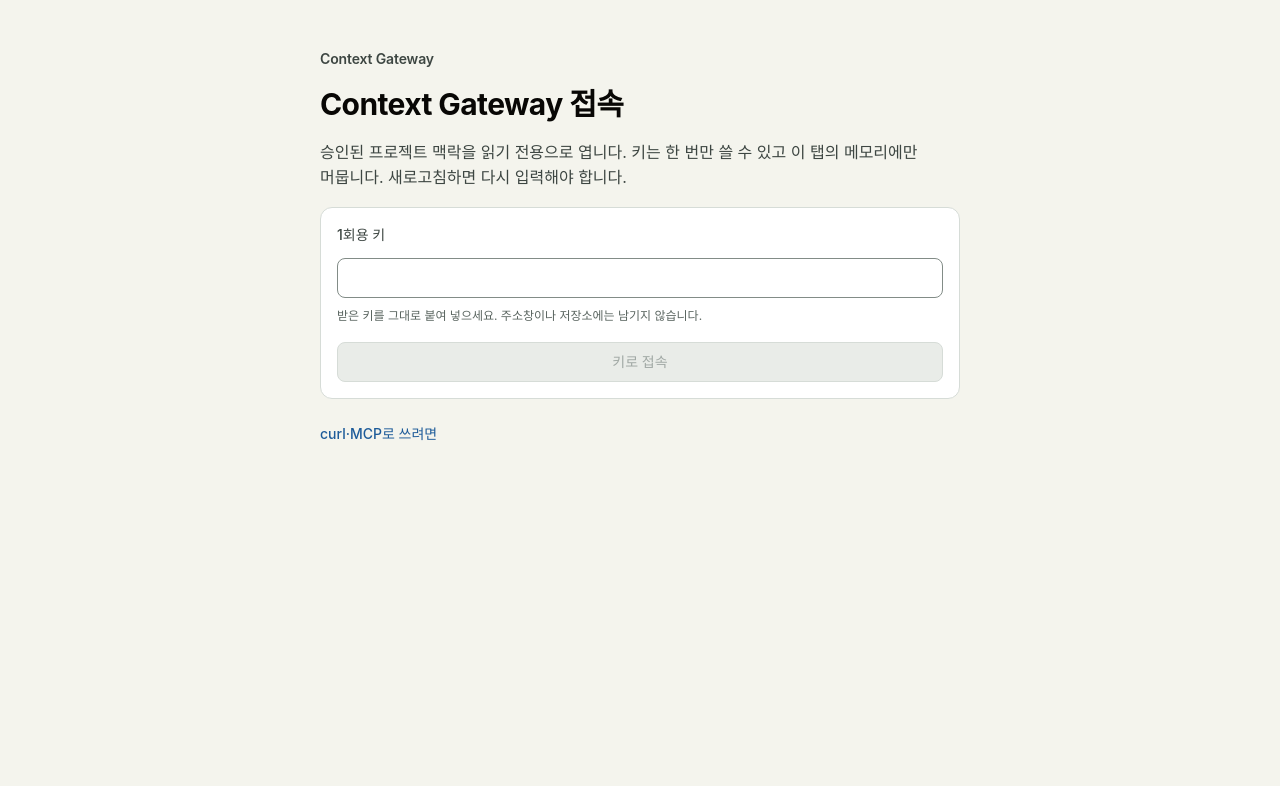
Test: 다른 프로젝트 데이터 비노출 › 프로젝트를 바꾸면 이전 프로젝트의 문서·목록이 화면에서 사라진다
The width and height of the screenshot is (1280, 786).
Type "synthetic-one-time-key-0002" into the password field labelled "1회용 키" at (640, 278), box x1=337 y1=258 x2=943 y2=298
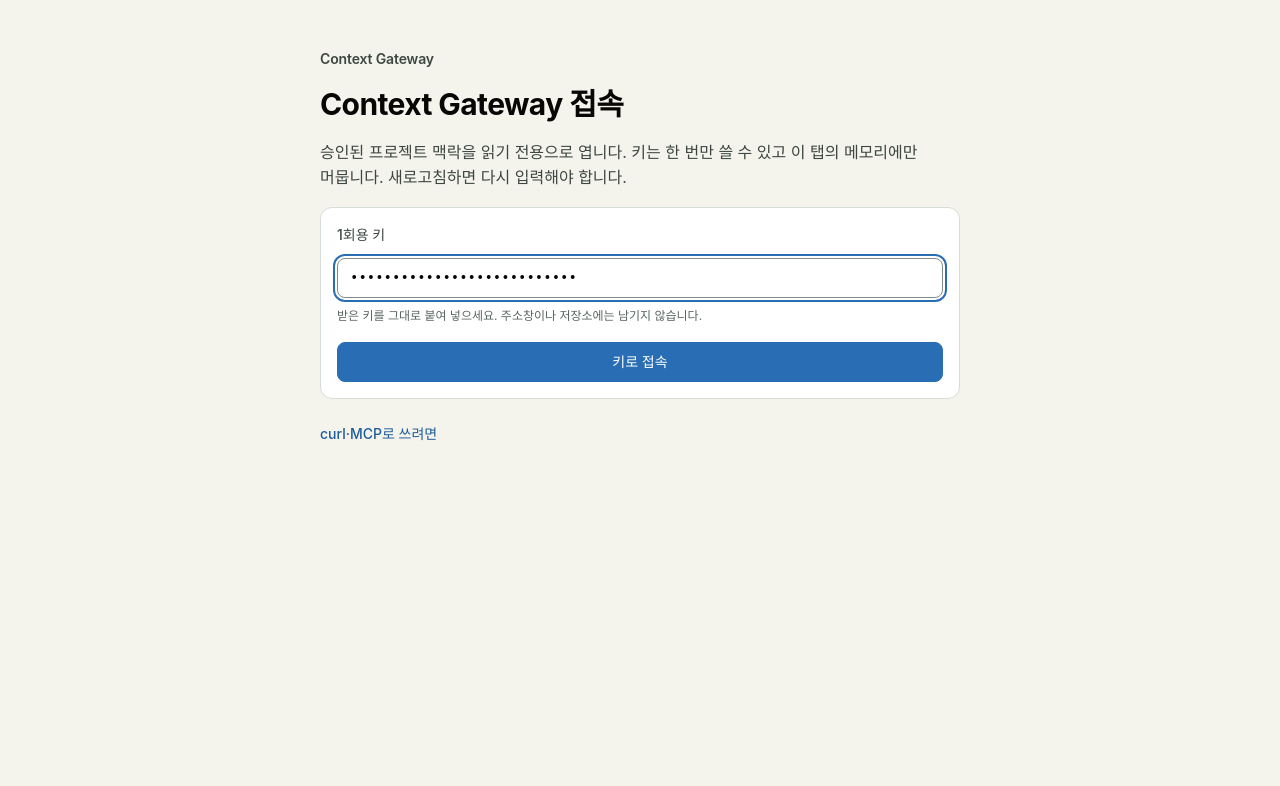
Click the button "키로 접속" at (640, 362), box x1=337 y1=342 x2=943 y2=382
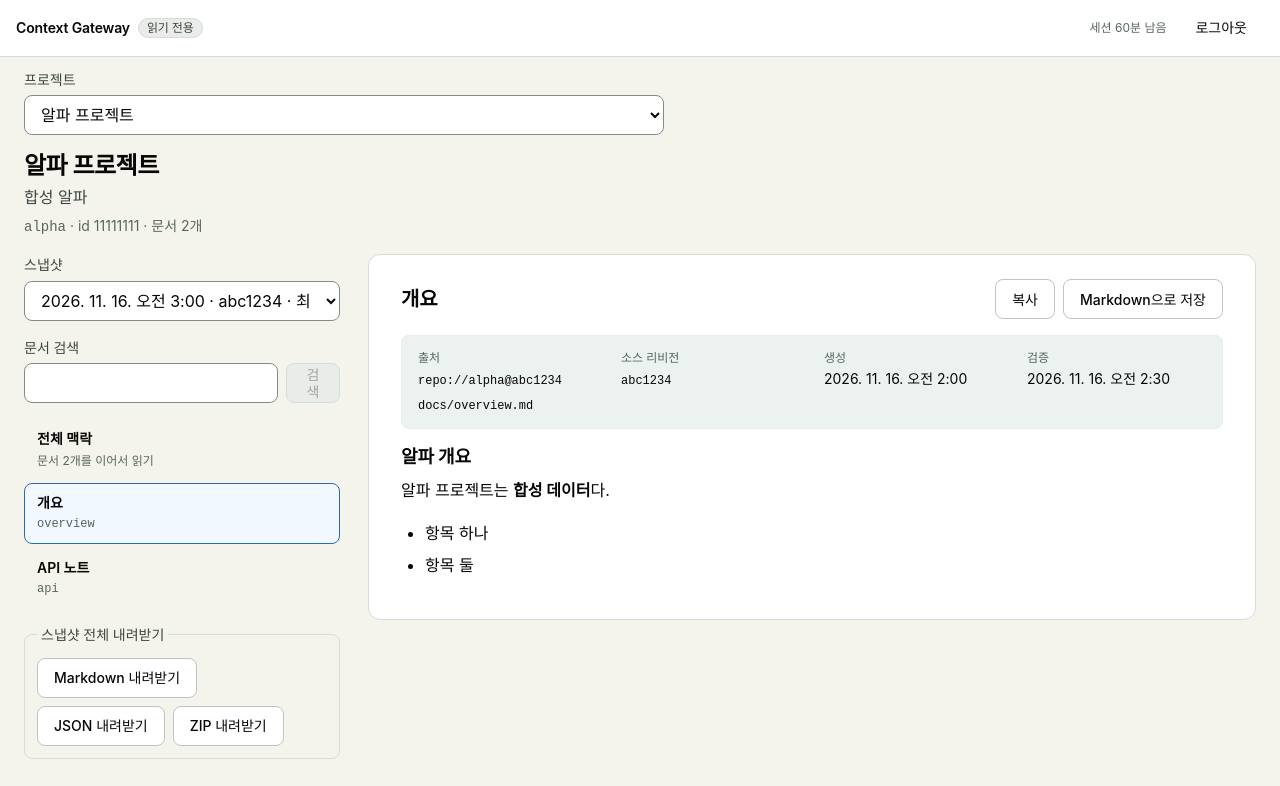
Check: the heading "알파 프로젝트" is shown, box x1=24 y1=151 x2=159 y2=180
Check: the text "합성 데이터" is shown, box x1=513 y1=480 x2=590 y2=500
Select "베타 프로젝트" in the dropdown labelled "프로젝트" at (344, 115), box x1=24 y1=95 x2=664 y2=135
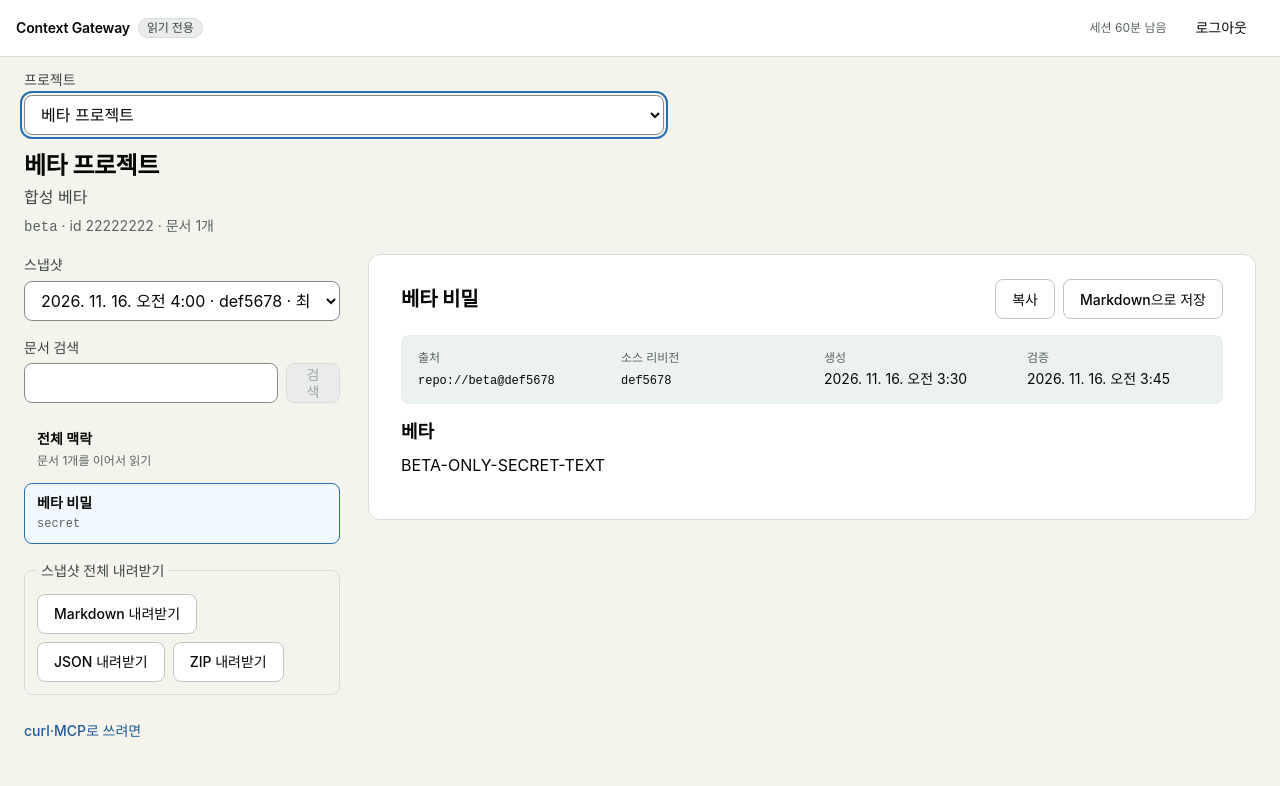
Check: the text "BETA-ONLY-SECRET-TEXT" is shown, box x1=401 y1=455 x2=605 y2=475
Check: the text "합성 데이터" is gone
Check: the button "API 노트" is gone
